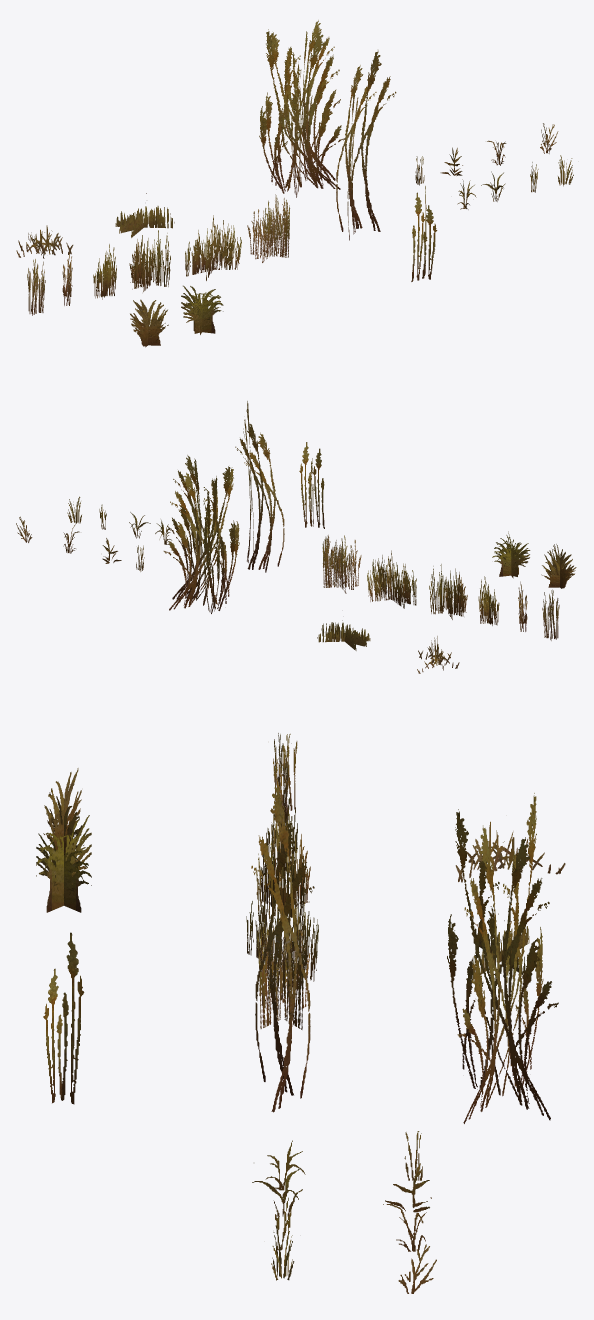
The model's file is Gramas.fbx.
3 views of the same model, one above another, from view 1: azimuth 30°, elevation 25°; view 2: azimuth 150°, elevation 25°; view 3: azimuth 270°, elevation 25° (orthographic). The views are drawn at different scales.
Visible parts, largest first — view 1: TrigoAltoCheinho, TrigoAltoMagrinho, GramaCheinha1, GramaCheinha3, GramaCheinha2, GramaTucho1, Trigo, GramaTucho2, GramaCurta, GramaMagrinha1, GramaMagrinha3, GramaCurtaVelha; view 2: TrigoAltoCheinho, TrigoAltoMagrinho, GramaCheinha1, GramaCheinha3, GramaCheinha2, Trigo, GramaTucho1, GramaTucho2, GramaCurta, GramaMagrinha1, GramaMagrinha3, GramaCurtaVelha; view 3: TrigoAltoCheinho, TrigoAltoMagrinho, GramaTucho1, GramaCheinha3, Trigo, GramaCheinha1, GramaCheinha2, GramaTucho2, GramaCurtaVelha, GramaMagrinha3, GramaCurta.
Boxes of the visible parts, x1,y1,x2,y2 form: TrigoAltoCheinho: (259,20,344,197); TrigoAltoMagrinho: (336,50,396,240); GramaCheinha1: (185,215,241,280); GramaCheinha3: (247,194,290,262); GramaCheinha2: (129,230,170,291); GramaTucho1: (181,285,223,334); Trigo: (411,186,437,281); GramaTucho2: (130,299,168,347); GramaCurta: (115,193,174,237); GramaMagrinha1: (93,244,116,299); GramaMagrinha3: (27,259,45,315); GramaCurtaVelha: (16,225,73,258); TrigoAltoCheinho: (163,455,239,613); TrigoAltoMagrinho: (235,401,284,572); GramaCheinha1: (367,550,416,608); GramaCheinha3: (322,535,361,593); GramaCheinha2: (429,564,467,619); Trigo: (299,442,324,528); GramaTucho1: (492,531,530,578); GramaTucho2: (541,544,576,588); GramaCurta: (317,620,370,650); GramaMagrinha1: (478,576,499,625); GramaMagrinha3: (542,589,559,640); GramaCurtaVelha: (417,636,459,673); TrigoAltoCheinho: (447,793,558,1123); TrigoAltoMagrinho: (251,783,314,1112); GramaTucho1: (36,815,91,912); GramaCheinha3: (258,912,309,1029); Trigo: (43,932,84,1104); GramaCheinha1: (246,883,318,981); GramaCheinha2: (256,832,310,924); GramaTucho2: (43,768,83,861); GramaCurtaVelha: (455,821,565,882); GramaMagrinha3: (273,733,297,811); GramaCurta: (473,913,529,978).
Bounding box in the file's own units: 543 × 167 × 251.
